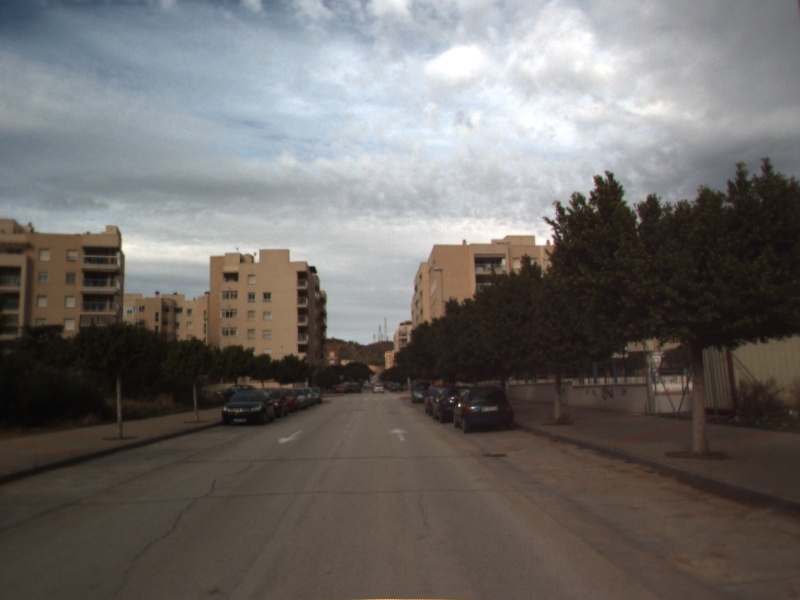STRAIGHT: (387, 426, 411, 443)
